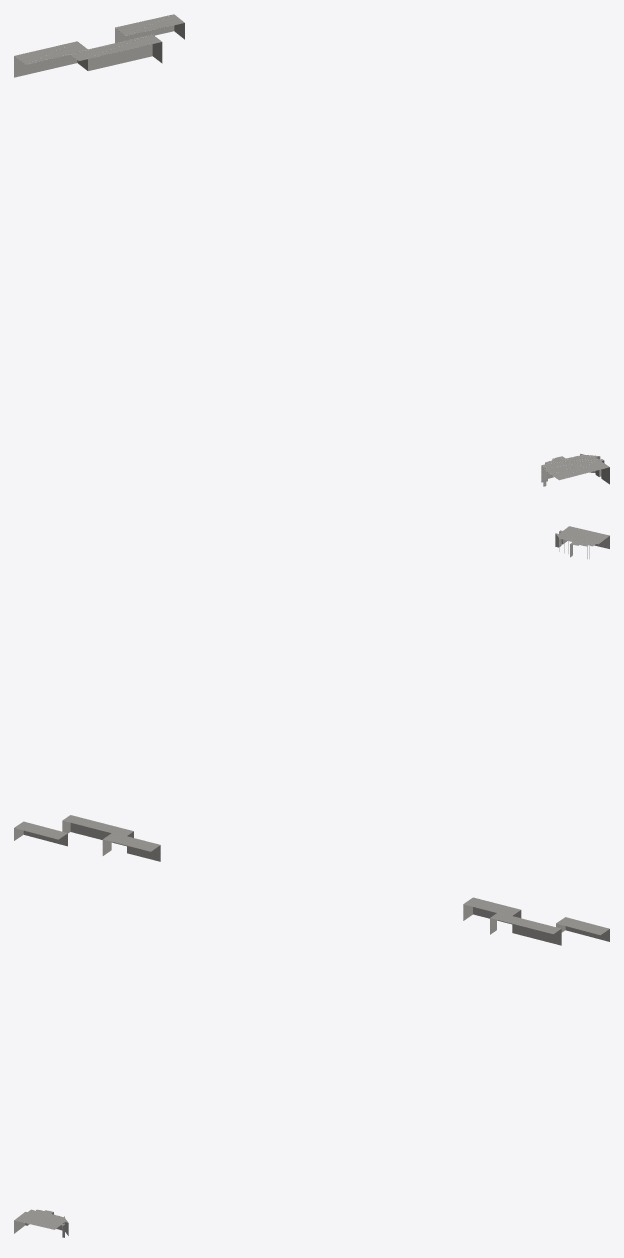
3 renders of one model, top to bottom at view 1: azimuth 30°, elevation 25°; view 2: azimuth 150°, elevation 25°; view 3: azimuth 330°, elevation 25°, orthographic. The views are drawn at different scales.
Visible parts, largest first — view 1: campus-buildings; view 2: campus-buildings; view 3: campus-buildings.
Part boxes in pixels (box(x1,y1,x2,y2)): campus-buildings: box(14, 14, 609, 486); campus-buildings: box(14, 526, 609, 861); campus-buildings: box(14, 897, 609, 1237).
Bounding box in the file's own units: 182 × 20 × 956.
1 material, 1 textured.
